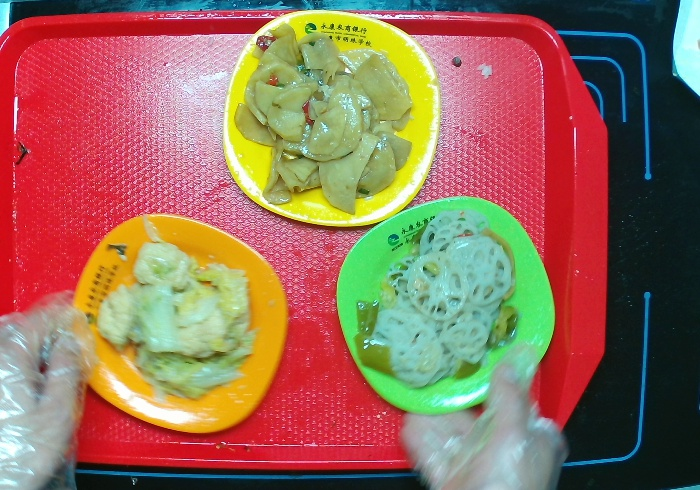YKMZ-Huang_Se_Fang_Die: (221, 8, 442, 228)
YKMZ-Ju_Se_Fang_Die: (71, 211, 289, 435)
YKMZ-Lv_Se_Fang_Die: (334, 194, 558, 417)
